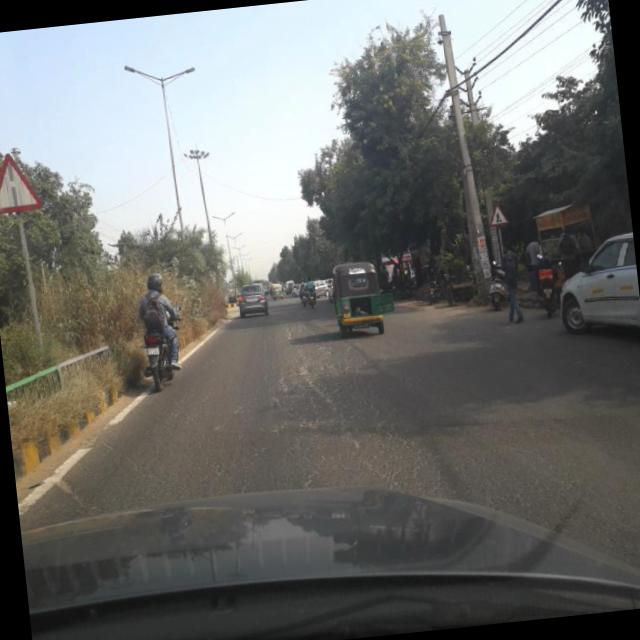crack: (181, 316, 516, 534)
